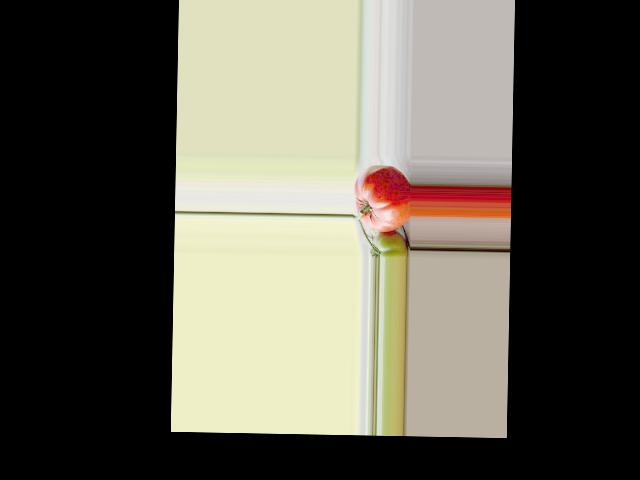tomato: (353, 164, 412, 232)
